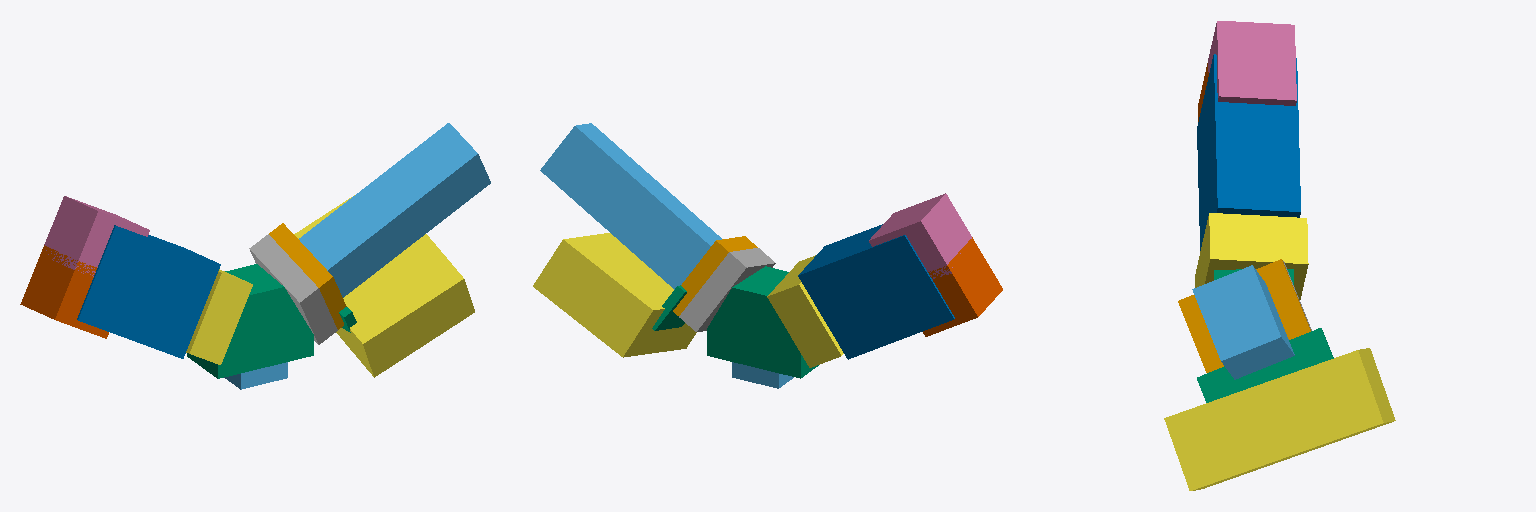
URDF robot description (ur16e_dualtool):
<?xml version="1.0" ?>
<robot name="ur16e_dualtool">
  <link name="tool0"/>
  <link name="damper">
    <inertial>
      <origin xyz="0 0 0.0125" rpy="0 0 0"/>
      <mass value="0.19845"/>
      <inertia ixx="7.59733e-05" iyy="7.59733e-05" izz="0.000131275" ixy="0" ixz="0" iyz="0"/>
    </inertial>
    <collision>
      <origin xyz="0 0 0.0125" rpy="0 0 0"/>
      <geometry>
        <box size="0.063 0.063 0.025"/>
      </geometry>
    </collision>
    <visual>
      <origin xyz="0 0 0.0125" rpy="0 0 0"/>
      <geometry>
        <box size="0.063 0.063 0.025"/>
      </geometry>
    </visual>
  </link>
  <link name="dual_quick_changer">
    <inertial>
      <origin xyz="0 0 0.0355" rpy="0 0 0"/>
      <mass value="1.76912"/>
      <inertia ixx="0.00213175" iyy="0.00317272" izz="0.00381812" ixy="0" ixz="0" iyz="0"/>
    </inertial>
    <collision>
      <origin xyz="0 0 0.0355" rpy="0 0 0"/>
      <geometry>
        <box size="0.128373 0.09705 0.071"/>
      </geometry>
    </collision>
    <visual>
      <origin xyz="0 0 0.0355" rpy="0 0 0"/>
      <geometry>
        <box size="0.128373 0.09705 0.071"/>
      </geometry>
    </visual>
  </link>
  <link name="hex_qc">
    <inertial>
      <origin xyz="0 0 0.025" rpy="0 0 0"/>
      <mass value="0.891983"/>
      <inertia ixx="0.000946732" iyy="0.000763572" izz="0.00133864" ixy="0" ixz="0" iyz="0"/>
    </inertial>
    <collision>
      <origin xyz="0 0 0.025" rpy="0 0 0"/>
      <geometry>
        <box size="0.0881616 0.101176 0.05"/>
      </geometry>
    </collision>
    <visual>
      <origin xyz="0 0 0.025" rpy="0 0 0"/>
      <geometry>
        <box size="0.0881616 0.101176 0.05"/>
      </geometry>
    </visual>
  </link>
  <link name="gripper_2fg14">
    <inertial>
      <origin xyz="0 0 0.0832" rpy="0 0 0"/>
      <mass value="3.99102"/>
      <inertia ixx="0.0138871" iyy="0.0110747" izz="0.00654393" ixy="0" ixz="0" iyz="0"/>
    </inertial>
    <collision>
      <origin xyz="0 0 0.0832" rpy="0 0 0"/>
      <geometry>
        <box size="0.0749 0.1186 0.1664"/>
      </geometry>
    </collision>
    <visual>
      <origin xyz="0 0 0.0832" rpy="0 0 0"/>
      <geometry>
        <box size="0.0749 0.1186 0.1664"/>
      </geometry>
    </visual>
  </link>
  <link name="gripper_2fg14__finger_left">
    <inertial>
      <origin xyz="0 0 0.041" rpy="0 0 0"/>
      <mass value="1.14685"/>
      <inertia ixx="0.00116597" iyy="0.00111092" izz="0.000991645" ixy="0" ixz="0" iyz="0"/>
    </inertial>
    <collision>
      <origin xyz="0 0 0.041" rpy="0 0 0"/>
      <geometry>
        <box size="0.07 0.074 0.082"/>
      </geometry>
    </collision>
    <visual>
      <origin xyz="0 0 0.041" rpy="0 0 0"/>
      <geometry>
        <box size="0.07 0.074 0.082"/>
      </geometry>
    </visual>
  </link>
  <link name="gripper_2fg14__finger_right">
    <inertial>
      <origin xyz="0 0 0.041" rpy="0 0 0"/>
      <mass value="1.14685"/>
      <inertia ixx="0.00116597" iyy="0.00111092" izz="0.000991645" ixy="0" ixz="0" iyz="0"/>
    </inertial>
    <collision>
      <origin xyz="0 0 0.041" rpy="0 0 0"/>
      <geometry>
        <box size="0.07 0.074 0.082"/>
      </geometry>
    </collision>
    <visual>
      <origin xyz="0 0 0.041" rpy="0 0 0"/>
      <geometry>
        <box size="0.07 0.074 0.082"/>
      </geometry>
    </visual>
  </link>
  <link name="qc_tool_side_B">
    <inertial>
      <origin xyz="0 0 0.0142" rpy="0 0 0"/>
      <mass value="0.572271"/>
      <inertia ixx="0.000518943" iyy="0.000518943" izz="0.000960958" ixy="0" ixz="0" iyz="0"/>
    </inertial>
    <collision>
      <origin xyz="0 0 0.0142" rpy="0 0 0"/>
      <geometry>
        <box size="0.100375 0.100375 0.0284"/>
      </geometry>
    </collision>
    <visual>
      <origin xyz="0 0 0.0142" rpy="0 0 0"/>
      <geometry>
        <box size="0.100375 0.100375 0.0284"/>
      </geometry>
    </visual>
  </link>
  <link name="adapter">
    <inertial>
      <origin xyz="0 0 0.01075" rpy="0 0 0"/>
      <mass value="0.43"/>
      <inertia ixx="0.000374897" iyy="0.000374897" izz="0.000716667" ixy="0" ixz="0" iyz="0"/>
    </inertial>
    <collision>
      <origin xyz="0 0 0.01075" rpy="0 0 0"/>
      <geometry>
        <box size="0.1 0.1 0.0215"/>
      </geometry>
    </collision>
    <visual>
      <origin xyz="0 0 0.01075" rpy="0 0 0"/>
      <geometry>
        <box size="0.1 0.1 0.0215"/>
      </geometry>
    </visual>
  </link>
  <link name="screwdriver">
    <inertial>
      <origin xyz="0 0 0.1131" rpy="0 0 0"/>
      <mass value="1.82102"/>
      <inertia ixx="0.00849548" iyy="0.00827507" izz="0.00124139" ixy="0" ixz="0" iyz="0"/>
    </inertial>
    <collision>
      <origin xyz="0 0 0.1131" rpy="0 0 0"/>
      <geometry>
        <box size="0.058 0.0694006 0.2262"/>
      </geometry>
    </collision>
    <visual>
      <origin xyz="0 0 0.1131" rpy="0 0 0"/>
      <geometry>
        <box size="0.058 0.0694006 0.2262"/>
      </geometry>
    </visual>
  </link>
  <link name="camera_adapter">
    <inertial>
      <origin xyz="0 0 0.006" rpy="0 0 0"/>
      <mass value="0.1728"/>
      <inertia ixx="5.39136e-05" iyy="0.000209434" izz="0.0002592" ixy="0" ixz="0" iyz="0"/>
    </inertial>
    <collision>
      <origin xyz="0 0 0.006" rpy="0 0 0"/>
      <geometry>
        <box size="0.12 0.06 0.012"/>
      </geometry>
    </collision>
    <visual>
      <origin xyz="0 0 0.006" rpy="0 0 0"/>
      <geometry>
        <box size="0.12 0.06 0.012"/>
      </geometry>
    </visual>
  </link>
  <link name="copick">
    <inertial>
      <origin xyz="0 0 0.0918284" rpy="0 0 0"/>
      <mass value="1.2"/>
      <inertia ixx="0.00385111" iyy="0.00539506" izz="0.00250022" ixy="0" ixz="0" iyz="0"/>
    </inertial>
    <collision>
      <origin xyz="0 0 0.0918284" rpy="0 0 0"/>
      <geometry>
        <box size="0.1422 0.0691471 0.183657"/>
      </geometry>
    </collision>
    <visual>
      <origin xyz="0 0 0.0918284" rpy="0 0 0"/>
      <geometry>
        <box size="0.1422 0.0691471 0.183657"/>
      </geometry>
    </visual>
  </link>
  <joint name="damper_joint" type="fixed">
    <parent link="tool0"/>
    <child link="damper"/>
    <origin xyz="0 0 0" rpy="0 -0 0"/>
  </joint>
  <joint name="dual_quick_changer_joint" type="fixed">
    <parent link="damper"/>
    <child link="dual_quick_changer"/>
    <origin xyz="0 -0.03516 0.07125" rpy="-1.57254 -0 0"/>
  </joint>
  <joint name="hex_qc_joint" type="fixed">
    <parent link="dual_quick_changer"/>
    <child link="hex_qc"/>
    <origin xyz="-0.04748 -0.015489 0.033993" rpy="-1.74872 -1.44392 2.28005"/>
  </joint>
  <joint name="gripper_2fg14_joint" type="fixed">
    <parent link="hex_qc"/>
    <child link="gripper_2fg14"/>
    <origin xyz="-5e-06 0 0.05" rpy="0 0 0"/>
  </joint>
  <joint name="gripper_2fg14__finger_left_joint" type="prismatic">
    <parent link="gripper_2fg14"/>
    <child link="gripper_2fg14__finger_left"/>
    <origin xyz="0 0.03105 0.1144" rpy="0 0 0"/>
    <axis xyz="0 -1 0"/>
    <limit lower="0" upper="0.025" effort="140" velocity="0.45"/>
    <dynamics damping="0" friction="0"/>
  </joint>
  <joint name="gripper_2fg14__finger_right_joint" type="prismatic">
    <parent link="gripper_2fg14"/>
    <child link="gripper_2fg14__finger_right"/>
    <origin xyz="0 -0.03105 0.1144" rpy="0 0 0"/>
    <axis xyz="0 1 0"/>
    <limit lower="0" upper="0.025" effort="140" velocity="0.45"/>
    <dynamics damping="0" friction="0"/>
    <mimic joint="gripper_2fg14__finger_left_joint" multiplier="1" offset="0"/>
  </joint>
  <joint name="qc_tool_side_B_joint" type="fixed">
    <parent link="dual_quick_changer"/>
    <child link="qc_tool_side_B"/>
    <origin xyz="0.04464 -0.016901 0.035011" rpy="1.71583 1.18509 1.1955"/>
  </joint>
  <joint name="adapter_joint" type="fixed">
    <parent link="qc_tool_side_B"/>
    <child link="adapter"/>
    <origin xyz="-3e-06 -7e-06 0.028402" rpy="0 -0 -0"/>
  </joint>
  <joint name="screwdriver_joint" type="fixed">
    <parent link="adapter"/>
    <child link="screwdriver"/>
    <origin xyz="1.2e-05 4e-06 0.021498" rpy="0 -0 -0"/>
  </joint>
  <joint name="camera_adapter_joint" type="fixed">
    <parent link="adapter"/>
    <child link="camera_adapter"/>
    <origin xyz="1.8e-05 0.049998 0.010008" rpy="0 -0 -0"/>
  </joint>
  <joint name="copick_joint" type="fixed">
    <parent link="camera_adapter"/>
    <child link="copick"/>
    <origin xyz="0.094887 0.033517 0.067575" rpy="-0.976756 -1.48111 0.92974"/>
  </joint>
</robot>

--- What the picture shows (computed from the rendered views, not written in the file) ---
The picture shows the robot from 3 angles, left to right: view 1: azimuth 30°, elevation 25°; view 2: azimuth 150°, elevation 25°; view 3: azimuth 270°, elevation 25°; orthographic projection.
Robot: ur16e_dualtool — 12 links, 11 joints (2 prismatic, 9 fixed); root link tool0; default pose: every joint at zero.
Visible links, largest first — view 1: screwdriver, gripper_2fg14, copick, dual_quick_changer, gripper_2fg14__finger_left, gripper_2fg14__finger_right, hex_qc, qc_tool_side_B, adapter, damper; view 2: screwdriver, gripper_2fg14, copick, dual_quick_changer, gripper_2fg14__finger_right, hex_qc, gripper_2fg14__finger_left, qc_tool_side_B, adapter, damper, camera_adapter; view 3: copick, gripper_2fg14, screwdriver, gripper_2fg14__finger_right, hex_qc, adapter, camera_adapter.
Boxes of the visible links, <box> form: screwdriver: <box>299,123,490,297</box>; gripper_2fg14: <box>77,225,220,358</box>; copick: <box>294,195,474,377</box>; dual_quick_changer: <box>187,264,313,378</box>; gripper_2fg14__finger_left: <box>20,245,108,338</box>; gripper_2fg14__finger_right: <box>44,196,149,276</box>; hex_qc: <box>186,269,252,364</box>; qc_tool_side_B: <box>249,234,337,344</box>; adapter: <box>269,223,346,329</box>; damper: <box>224,362,287,389</box>; screwdriver: <box>540,123,721,289</box>; gripper_2fg14: <box>798,224,954,359</box>; copick: <box>533,233,696,357</box>; dual_quick_changer: <box>707,266,818,378</box>; gripper_2fg14__finger_right: <box>869,193,971,279</box>; hex_qc: <box>767,255,843,367</box>; gripper_2fg14__finger_left: <box>923,237,1002,336</box>; qc_tool_side_B: <box>679,248,775,331</box>; adapter: <box>673,236,757,315</box>; damper: <box>732,362,793,388</box>; camera_adapter: <box>652,285,686,330</box>; copick: <box>1164,348,1395,490</box>; gripper_2fg14: <box>1197,54,1300,250</box>; screwdriver: <box>1192,265,1294,379</box>; gripper_2fg14__finger_right: <box>1208,21,1296,105</box>; hex_qc: <box>1195,213,1308,299</box>; adapter: <box>1178,259,1310,372</box>; camera_adapter: <box>1197,328,1333,402</box>.
Size in the robot's own frame: 0.6023 by 0.2065 by 0.2921 metres.
Geometry: primitives only (box / cylinder / sphere), no mesh files.
